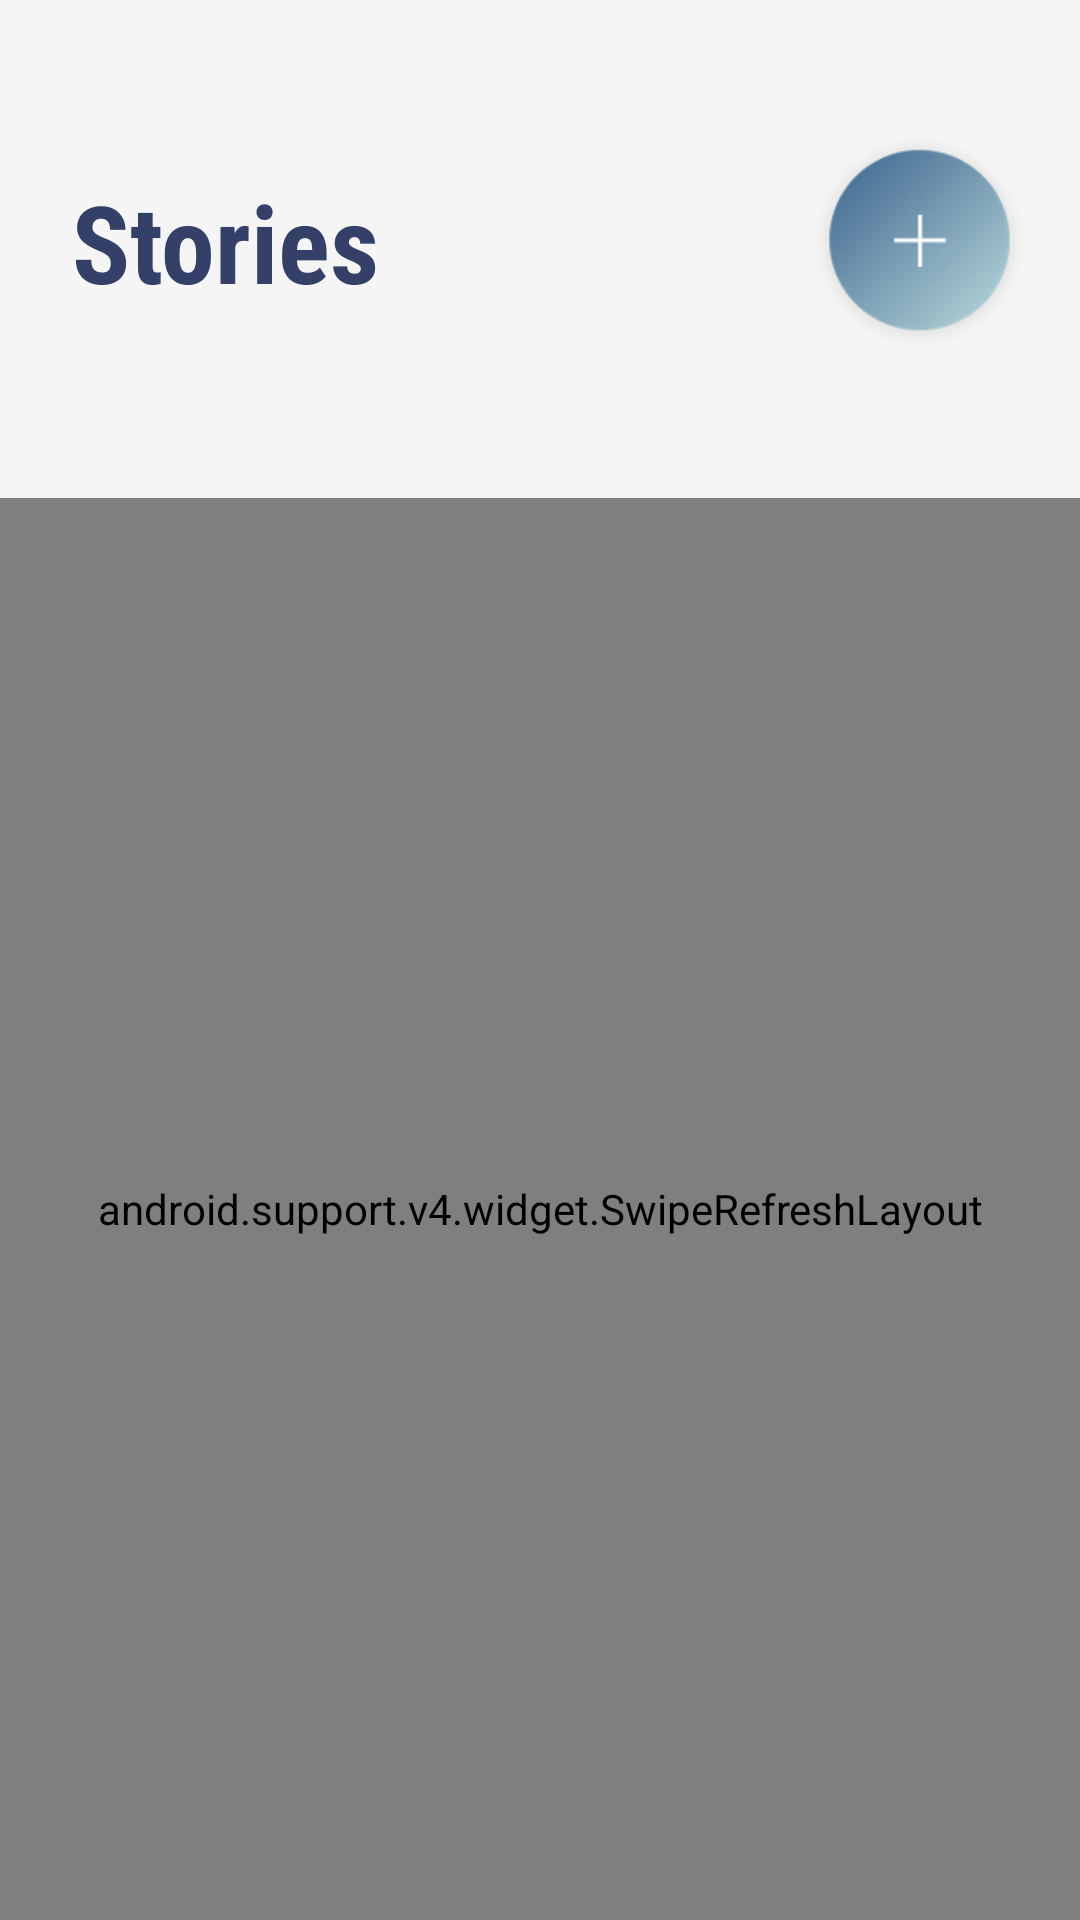

Icon bounding boxes for this 1080×1920 phone screenshot, format (x1, y1, x2, y2):
stories add: (829, 149, 1010, 331)
